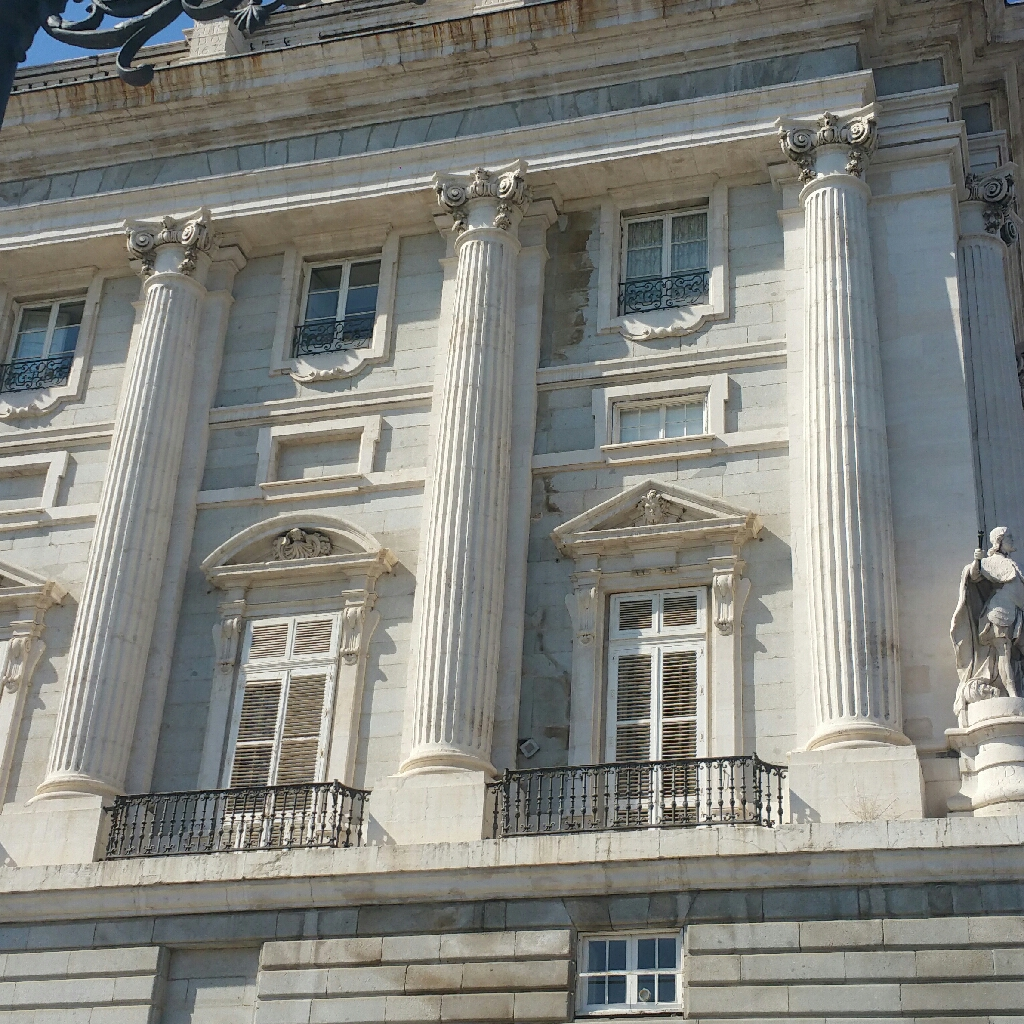fronton: (552, 477, 763, 547)
fronton-curvo: (200, 512, 390, 575)
vano-adintelado: (572, 554, 744, 826), (194, 594, 378, 837), (596, 177, 733, 328), (271, 222, 404, 370), (1, 272, 107, 397)
